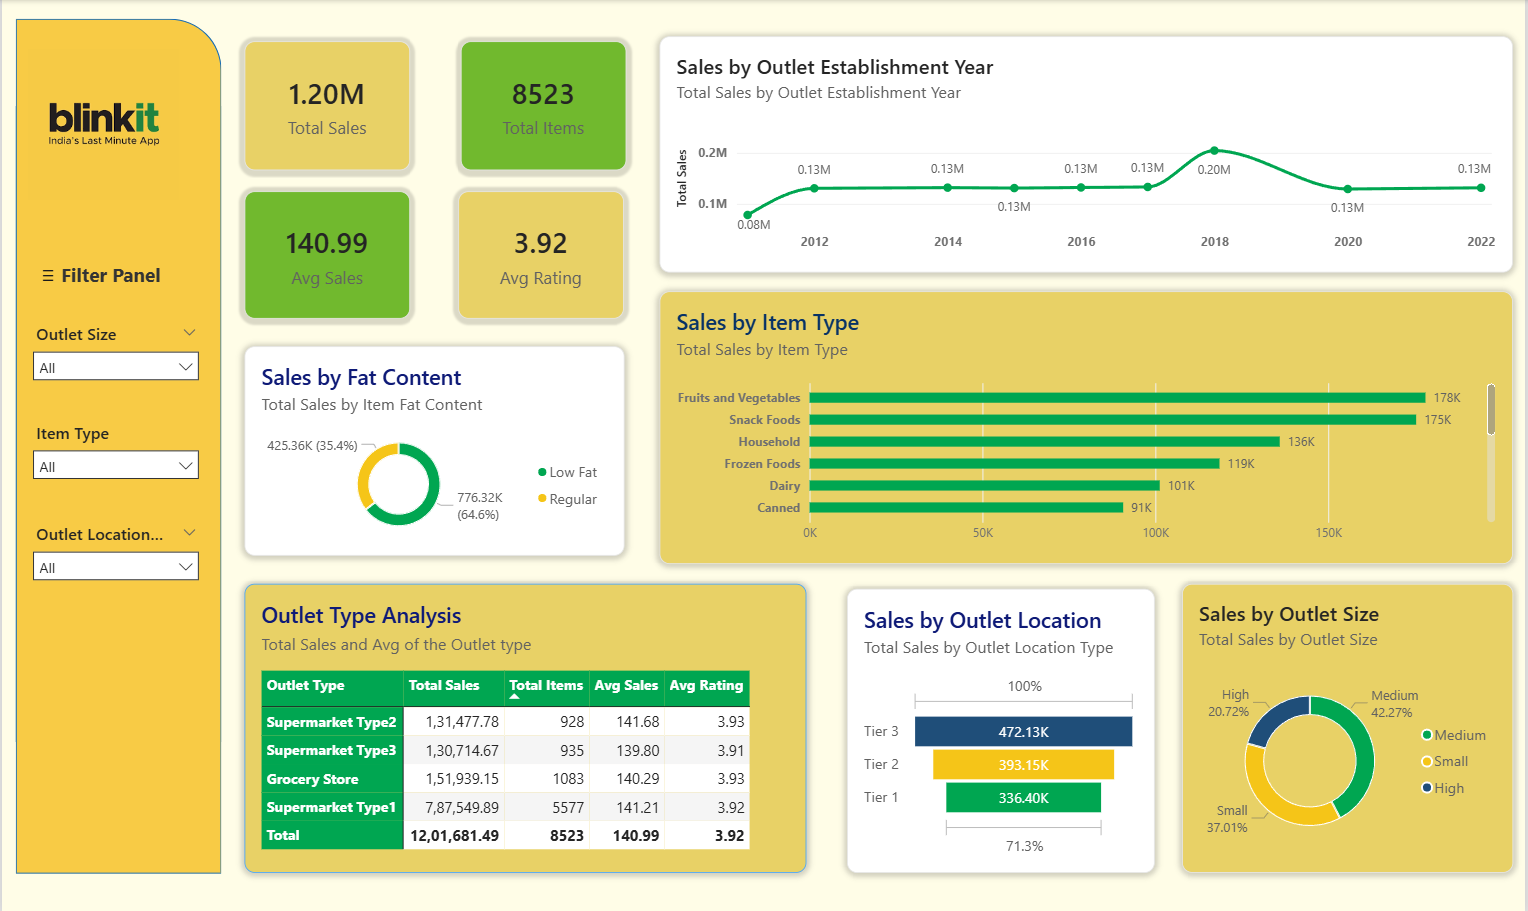

Layout of this report page (visuals, bound fields, positions):
{"tool":"powerbi","page":{"name":"Page 1","canvas":[1500,900],"ordinal":0},"visuals":[{"type":"card","fields":{"Values":["Key Measures.Total Sales"]},"box":[239,41.2,163.2,126.9],"z":0},{"type":"card","fields":{"Values":["Key Measures.Avg Sales"]},"box":[239,187.9,163.2,125.3],"z":1000},{"type":"card","fields":{"Values":["Key Measures.Avg Rating"]},"box":[450,187.9,163.2,125.3],"z":2000},{"type":"card","fields":{"Values":["Key Measures.Total Items"]},"box":[451.6,41.2,163.2,126.9],"z":3000},{"type":"donutChart","title":" Sales by Fat Content","fields":{"Category":["BlinkIT-Grocery-Data.Item Fat Content"],"Y":["Key Measures.Total Sales"]},"box":[239,341.2,374.2,206],"z":4000},{"type":"clusteredBarChart","title":"Sales by Item Type","fields":{"Category":["BlinkIT-Grocery-Data.Item Type"],"Y":["Key Measures.Total Sales"]},"box":[647.8,286.8,840.7,268.7],"z":5000},{"type":"donutChart","title":"Sales by Outlet Size","fields":{"Category":["BlinkIT-Grocery-Data.Outlet Size"],"Y":["Key Measures.Total Sales"]},"box":[1162.1,575.3,326.4,285.2],"z":6000},{"type":"lineChart","title":"Sales by Outlet Establishment Year","fields":{"Category":["BlinkIT-Grocery-Data.Outlet Establishment Year"],"Y":["Key Measures.Total Sales"]},"box":[647.8,36.3,840.7,232.4],"z":7000},{"type":"pivotTable","title":"Outlet Type Analysis","fields":{"Rows":["BlinkIT-Grocery-Data.Outlet Type"],"Values":["Key Measures.Total Sales","Key Measures.Total Items","Key Measures.Avg Sales","Key Measures.Avg Rating"]},"box":[239,575.3,553.8,285.2],"z":8000},{"type":"funnel","title":" Sales by Outlet Location","fields":{"Category":["BlinkIT-Grocery-Data.Outlet Location Type"],"Y":["Key Measures.Total Sales"]},"box":[832.4,580.2,303.3,280.2],"z":12000},{"type":"shape","box":[13.2,18.1,202.7,842.3],"z":12750},{"type":"slicer","fields":{"Values":["BlinkIT-Grocery-Data.Outlet Location Type"]},"box":[26.4,514.3,173.1,65.9],"z":12812},{"type":"slicer","fields":{"Values":["BlinkIT-Grocery-Data.Outlet Size"]},"box":[26.4,318.1,173.1,64.3],"z":12875},{"type":"slicer","fields":{"Values":["BlinkIT-Grocery-Data.Item Type"]},"box":[26.4,415.4,173.1,67.6],"z":13000},{"type":"textbox","box":[25.9,251.2,160.1,35.7],"z":15500},{"type":"image","box":[25.6,42,148.6,161.9],"z":16501}]}

Visuals, with their boxes in screenshot pixels (x1, y1, x2, y2), scaled from the page's 1500x900 canvas onto the 1528x911 screenshot:
card - Key Measures.Total Sales: [243,42,410,170]
card - Key Measures.Avg Sales: [243,190,410,317]
card - Key Measures.Avg Rating: [458,190,625,317]
card - Key Measures.Total Items: [460,42,626,170]
" Sales by Fat Content" donutChart: [243,345,625,554]
"Sales by Item Type" clusteredBarChart: [660,290,1516,562]
"Sales by Outlet Size" donutChart: [1184,582,1516,871]
"Sales by Outlet Establishment Year" lineChart: [660,37,1516,272]
"Outlet Type Analysis" pivotTable: [243,582,808,871]
" Sales by Outlet Location" funnel: [848,587,1157,871]
shape: [13,18,220,871]
slicer - BlinkIT-Grocery-Data.Outlet Location Type: [27,521,203,587]
slicer - BlinkIT-Grocery-Data.Outlet Size: [27,322,203,387]
slicer - BlinkIT-Grocery-Data.Item Type: [27,420,203,489]
textbox: [26,254,189,290]
image: [26,43,177,206]
